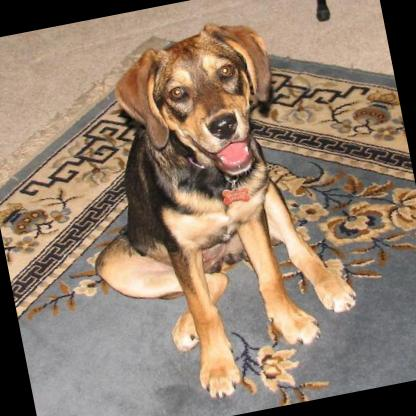German_shepherd: (53, 6, 370, 414)
